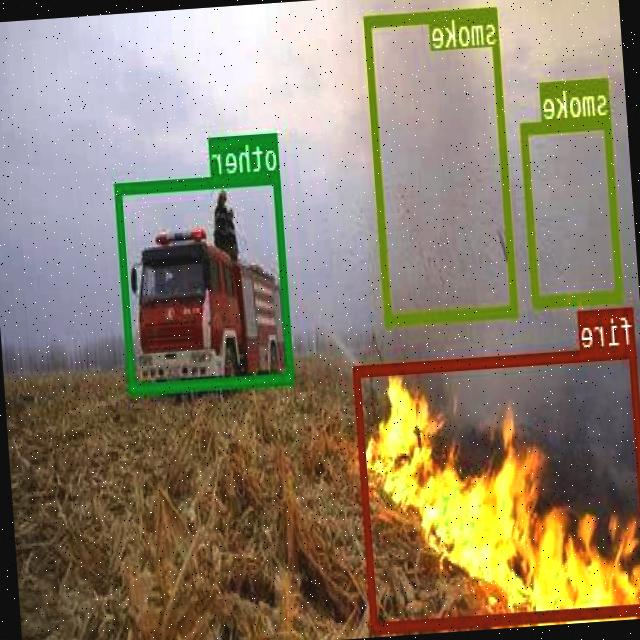fire: (354, 343, 640, 630)
smoke: (366, 4, 520, 323), (521, 115, 625, 306)
